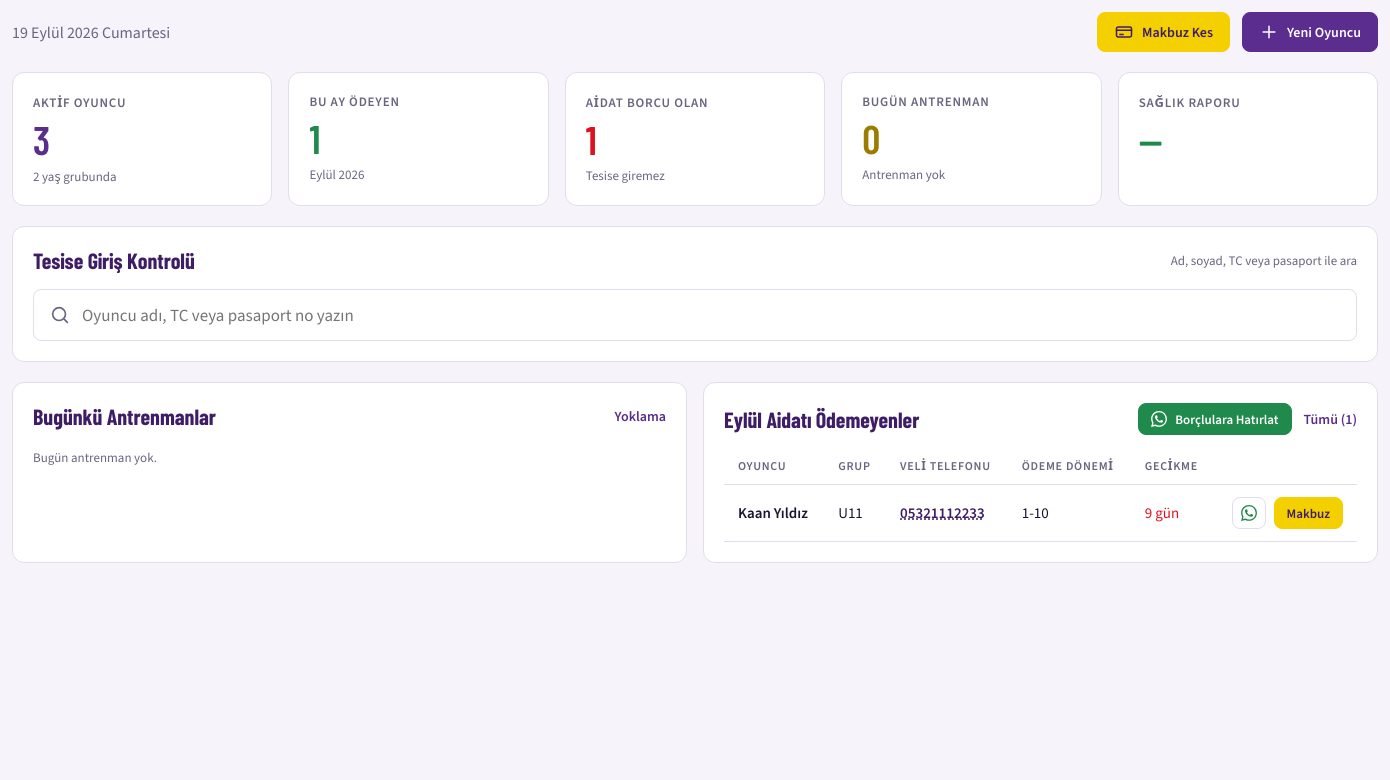
Pano — tesise giriş kontrolü › borçlu listesinde veli telefonu görünür ve tıklayınca kopyalanır
Click the button named "05321112233 kopyala" at (942, 513), box [900,503,985,523]
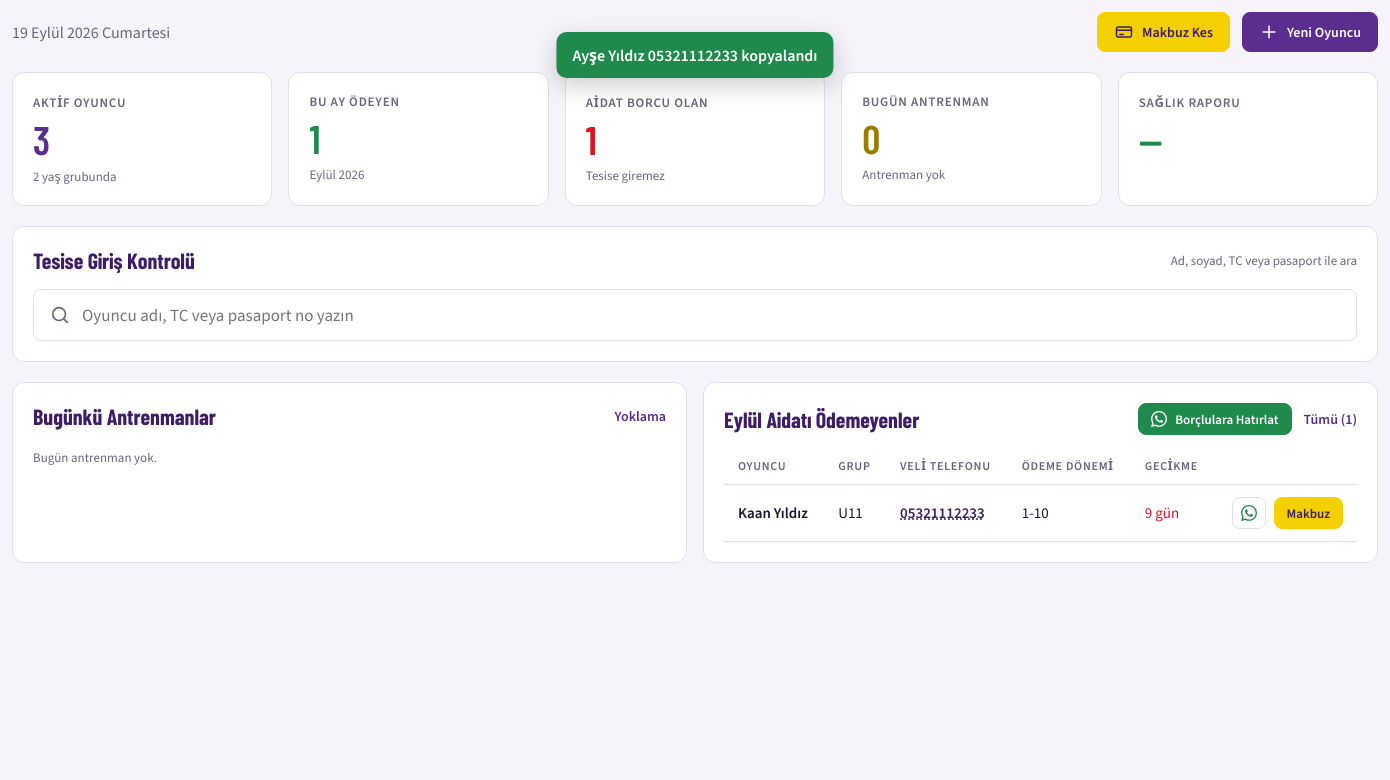
Expected: the text "Ayşe Yıldız 05321112233 kopyalandı" is shown, [556,32,834,78]
